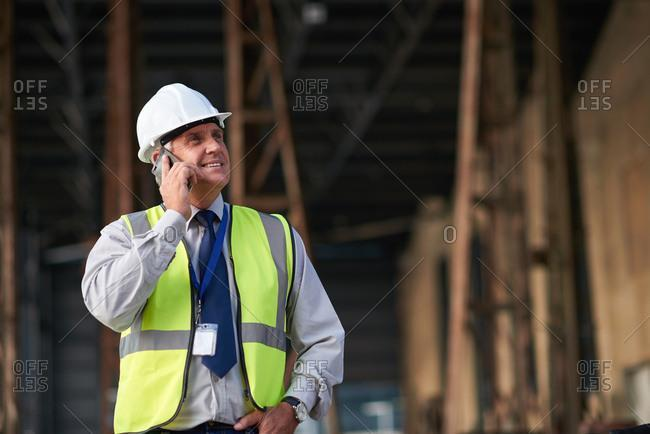hardhat: (136, 84, 234, 163)
worker: (83, 84, 346, 434)
